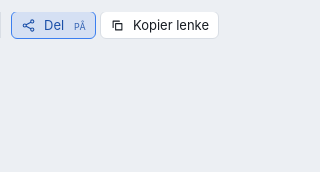
Test case: kopiering som lykkes › bekrefter, og viser ikke reservefeltet
Click the button with test id "copy-share-link" at coordinates (159, 25), box x1=100 y1=11 x2=219 y2=39
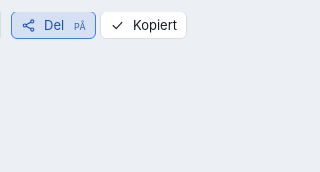
Check: the text "Kopiert" is shown, box x1=133 y1=16 x2=177 y2=34
